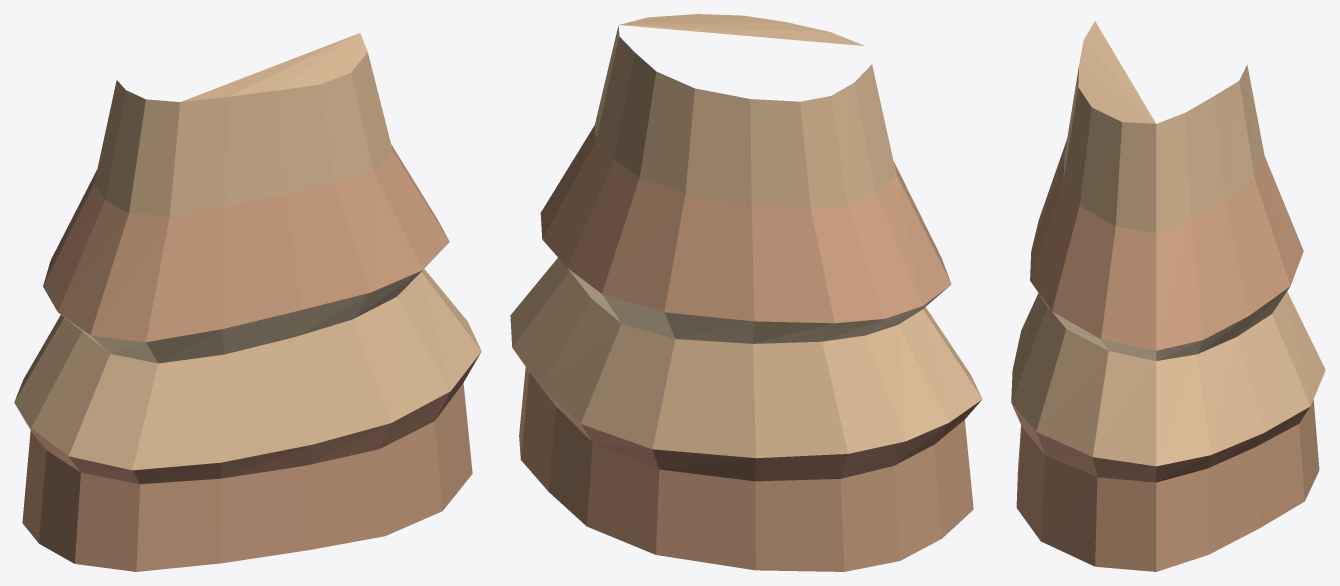
3 renders of one model, left to right at view 1: azimuth 30°, elevation 25°; view 2: azimuth 150°, elevation 25°; view 3: azimuth 270°, elevation 25°, orthographic. The views are drawn at different scales.
Size of the model in its own units: 29.16 by 28.39 by 19.53.
